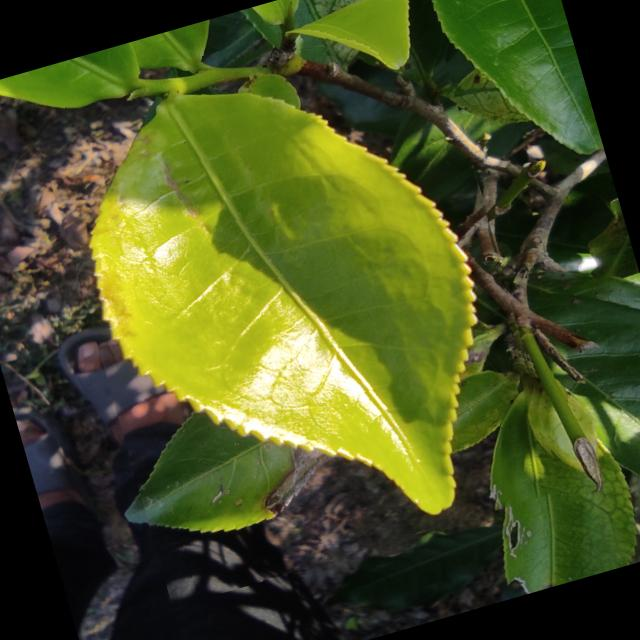Category B(2-4 days): (29, 0, 571, 607)
